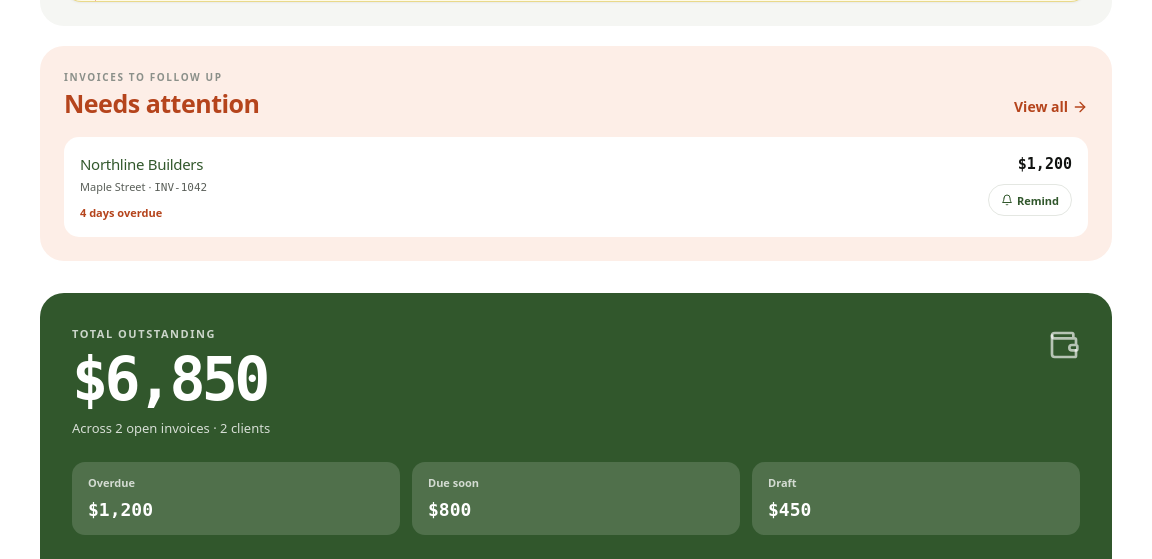
Test case: Dashboard interactions › shows Sent only when the individual reminder endpoint confirms success
(page scrolled)
Click the button with aria-label "Send reminder to Northline Builders" at (1030, 200), box [988, 184, 1072, 216]
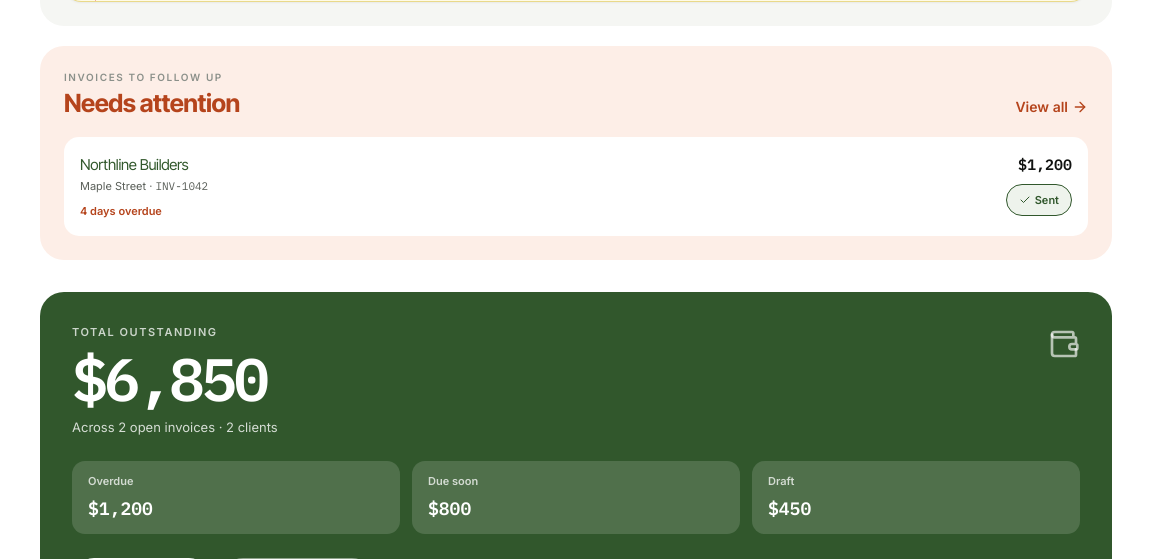
Result: the button with aria-label "Reminder sent to Northline Builders" reads "Sent" at [1006, 184, 1072, 216]
